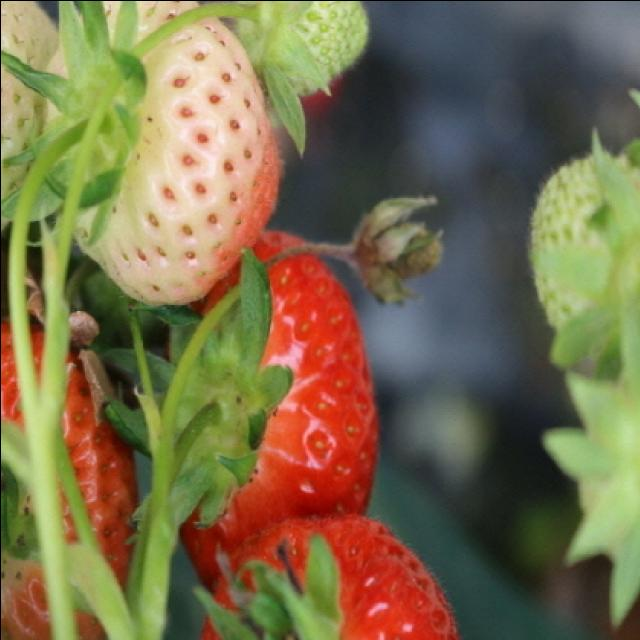Gray Mold: (325, 194, 448, 306)
